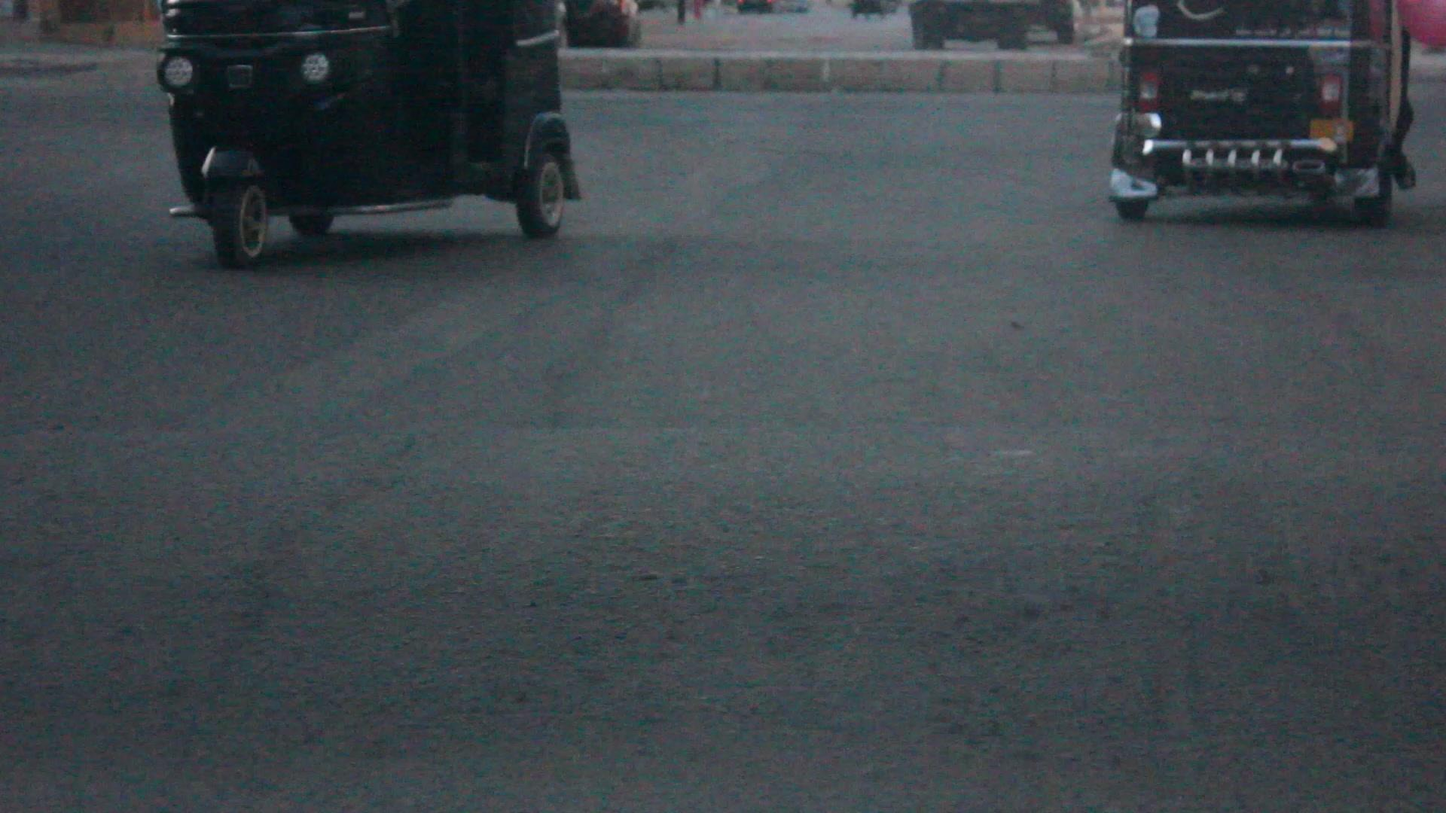Bump: (2, 438, 1446, 753)
